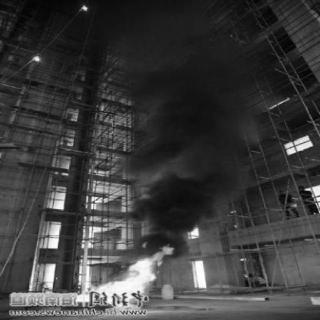Fire: (41, 228, 203, 315)
Smoke: (111, 23, 260, 249)
